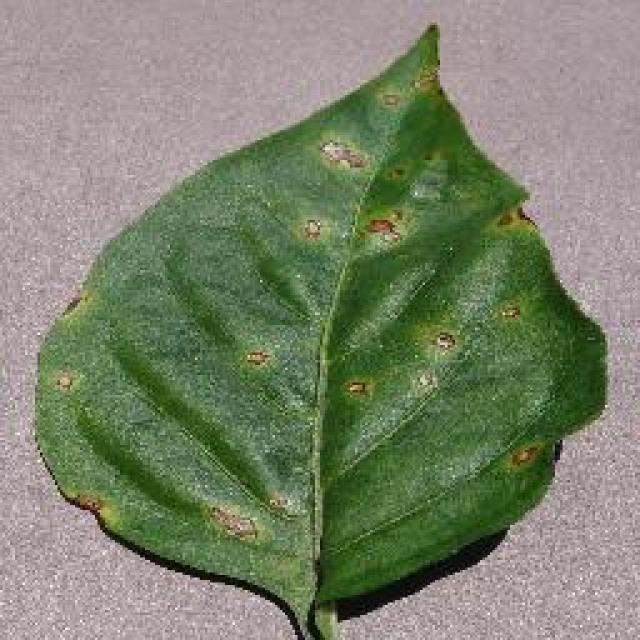Chilli_Bacterial_Spot: (28, 20, 612, 638), (202, 500, 260, 545), (355, 205, 410, 250), (315, 135, 370, 175), (423, 320, 465, 360), (493, 200, 535, 232), (362, 212, 402, 242), (505, 442, 540, 470), (410, 365, 440, 397), (240, 345, 272, 370), (50, 367, 78, 395), (297, 215, 325, 243), (340, 375, 370, 400), (495, 300, 525, 325), (430, 328, 458, 352), (375, 88, 403, 112)
